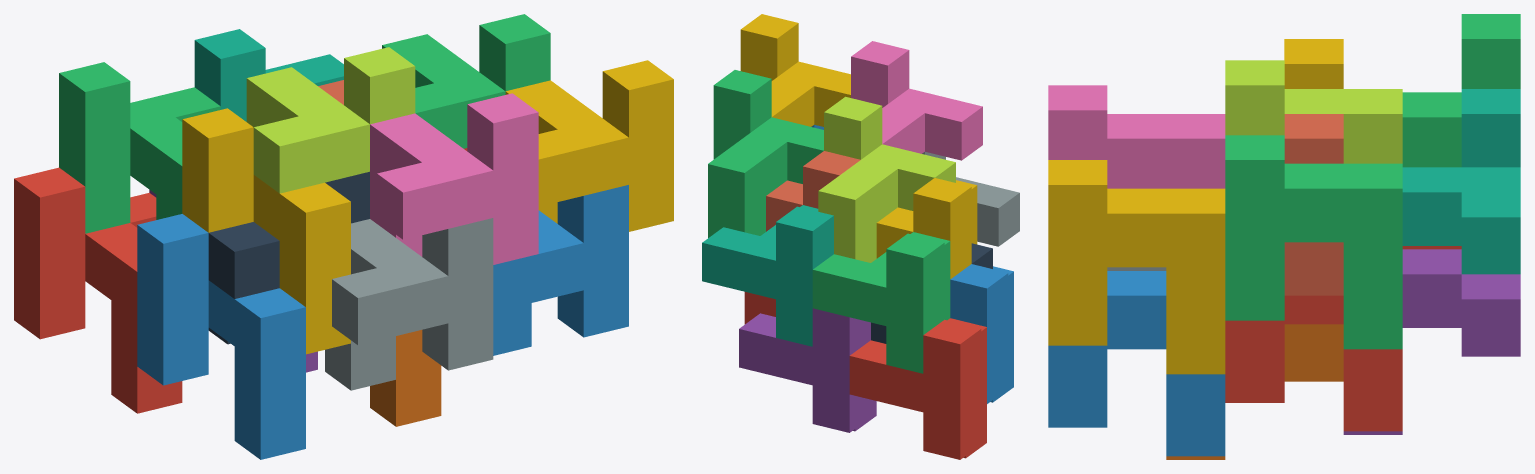
The model's file is tiling.obj.
3 renders of one model, left to right at view 1: azimuth 30°, elevation 25°; view 2: azimuth 150°, elevation 25°; view 3: azimuth 270°, elevation 25°, orthographic. The views are drawn at different scales.
Visible parts, largest first — view 1: copy_1_domain_2, copy_2_domain_2, copy_2_domain_4, copy_1_domain_1, copy_1_domain_4, copy_2_domain_8, copy_1_domain_3, copy_2_domain_3, copy_2_domain_6, copy_2_domain_7, copy_2_domain_1, copy_1_domain_7 (+1 smaller); view 2: copy_2_domain_7, copy_1_domain_1, copy_1_domain_3, copy_2_domain_3, copy_1_domain_7, copy_1_domain_5, copy_2_domain_4, copy_2_domain_8, copy_1_domain_4, copy_1_domain_2, copy_1_domain_8, copy_2_domain_2 (+2 smaller); view 3: copy_2_domain_7, copy_2_domain_8, copy_1_domain_7, copy_2_domain_6, copy_2_domain_4, copy_2_domain_5, copy_2_domain_3, copy_1_domain_5, copy_1_domain_3, copy_1_domain_8, copy_1_domain_6, copy_1_domain_4.
Boxes of the visible parts, box(x1,y1,x2,y2) form: copy_1_domain_2: box(137, 214, 305, 459); copy_2_domain_2: box(325, 218, 493, 390); copy_2_domain_4: box(370, 93, 538, 264); copy_1_domain_1: box(14, 167, 182, 413); copy_1_domain_4: box(182, 108, 350, 354); copy_2_domain_8: box(505, 60, 673, 231); copy_1_domain_3: box(59, 62, 220, 233); copy_2_domain_3: box(246, 47, 415, 193); copy_2_domain_6: box(493, 185, 628, 355); copy_2_domain_7: box(382, 14, 550, 148); copy_2_domain_1: box(208, 171, 369, 344); copy_1_domain_7: box(194, 29, 343, 121); copy_2_domain_7: box(708, 70, 823, 237); copy_1_domain_1: box(849, 318, 986, 459); copy_1_domain_3: box(812, 232, 950, 373); copy_2_domain_3: box(818, 96, 955, 262); copy_1_domain_7: box(702, 205, 833, 346); copy_1_domain_5: box(739, 308, 876, 432); copy_2_domain_4: box(851, 41, 982, 160); copy_2_domain_8: box(740, 14, 850, 126); copy_1_domain_4: box(876, 178, 977, 278); copy_1_domain_2: box(950, 264, 1013, 403); copy_1_domain_8: box(766, 151, 860, 231); copy_2_domain_2: box(922, 152, 1019, 246); copy_2_domain_7: box(1225, 135, 1402, 349); copy_2_domain_8: box(1048, 160, 1225, 374); copy_1_domain_7: box(1402, 89, 1520, 274); copy_2_domain_6: box(1048, 271, 1225, 456); copy_2_domain_4: box(1048, 85, 1225, 188); copy_2_domain_5: box(1225, 295, 1402, 431); copy_2_domain_3: box(1225, 60, 1402, 163); copy_1_domain_5: box(1343, 249, 1520, 434); copy_1_domain_3: box(1402, 14, 1520, 167); copy_1_domain_8: box(1284, 114, 1343, 295); copy_1_domain_6: box(1166, 324, 1343, 459); copy_1_domain_4: box(1284, 39, 1343, 88).
Size of the model in its own units: 10 by 7 by 8.
